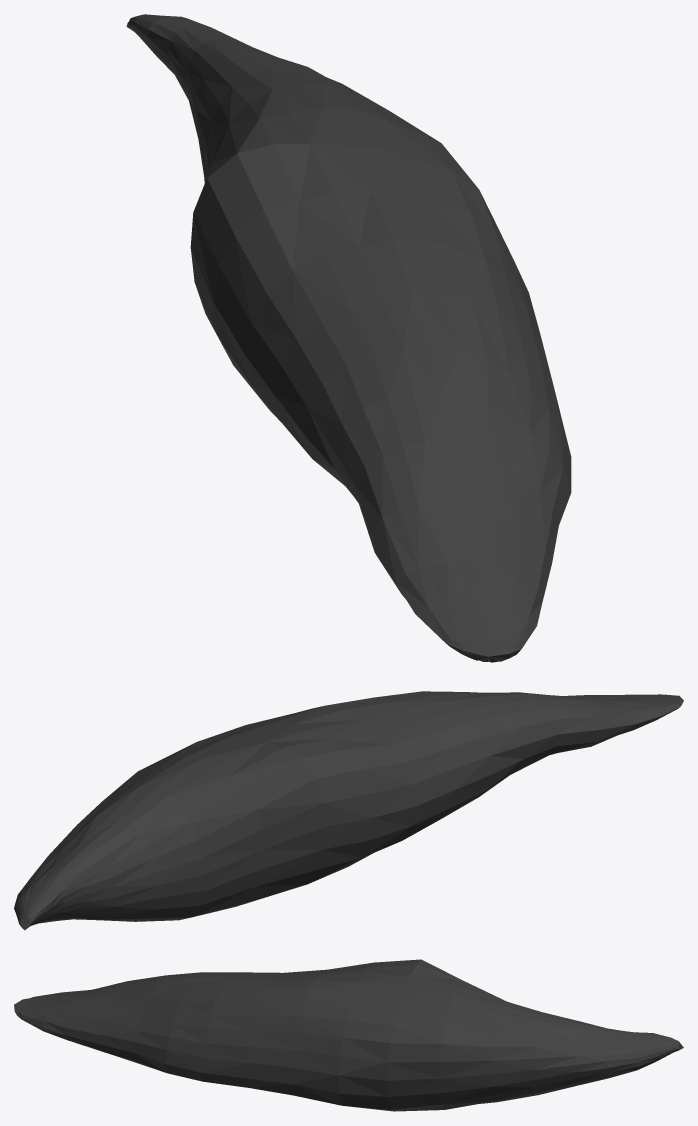
File: Supraspinatus_1.glb
3 renders of one model, top to bottom at view 1: azimuth 30°, elevation 25°; view 2: azimuth 150°, elevation 25°; view 3: azimuth 270°, elevation 25°, orthographic. The views are drawn at different scales.
Visible parts, largest first — view 1: Supraspinatus_1; view 2: Supraspinatus_1; view 3: Supraspinatus_1.
Boxes of the visible parts, x1,y1,x2,y2 form: Supraspinatus_1: [126, 14, 571, 662]; Supraspinatus_1: [14, 691, 683, 930]; Supraspinatus_1: [14, 959, 683, 1111].
Size of the model in its own units: 0.0127 by 0.00645 by 0.0352.
Materials: 1 (1 with a texture image).
